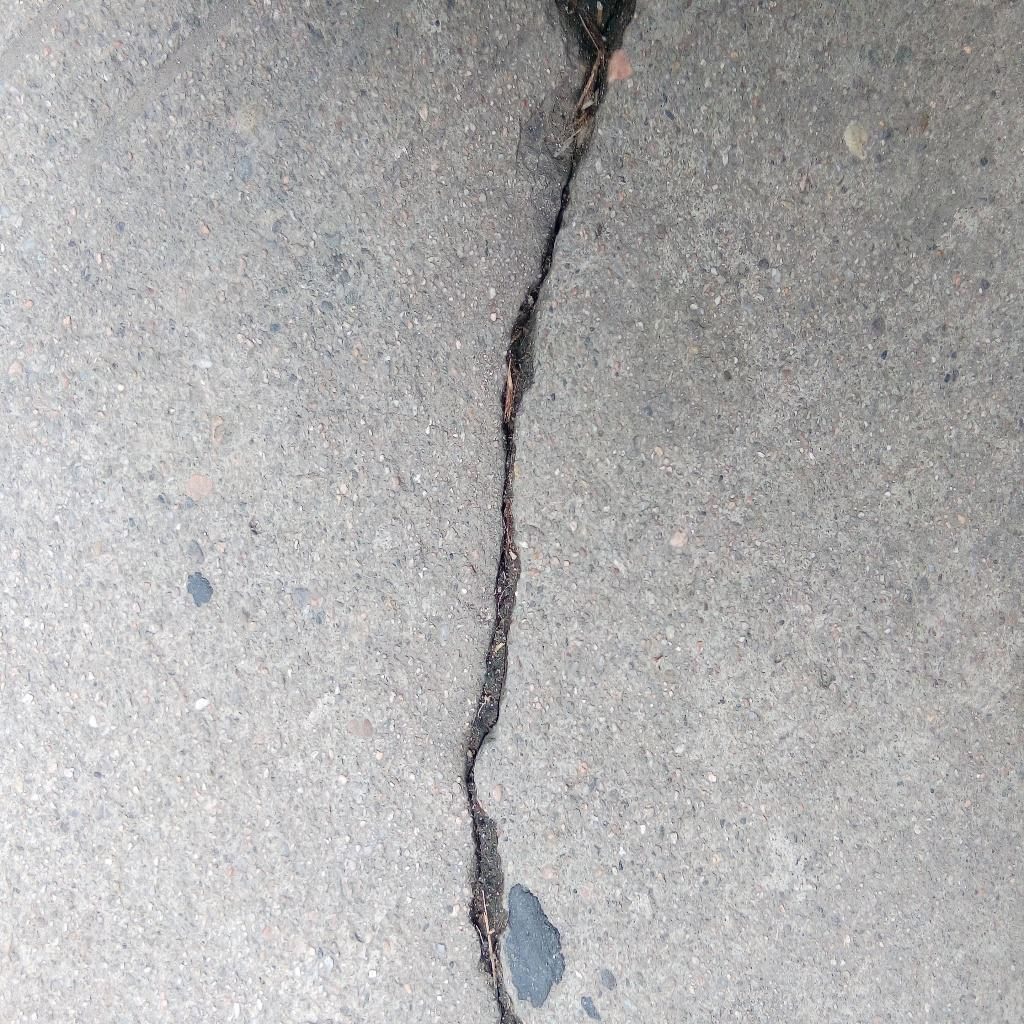Crack: (461, 1, 636, 1024)
